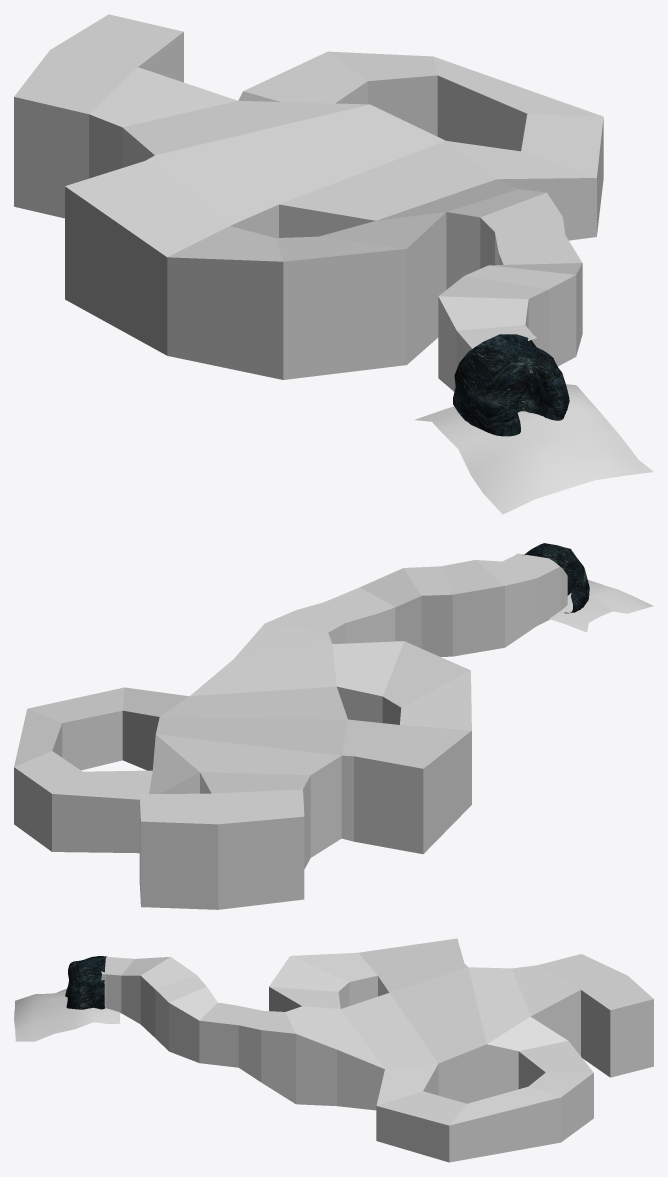
File: lamina_cave_2.glb
3 renders of one model, top to bottom at view 1: azimuth 30°, elevation 25°; view 2: azimuth 150°, elevation 25°; view 3: azimuth 270°, elevation 25°, orthographic. The views are drawn at different scales.
Visible parts, largest first — view 1: LightBlock-col, Grass, LaminaCave2; view 2: LightBlock-col, Grass, LaminaCave2; view 3: LightBlock-col, Grass, LaminaCave2.
Part boxes in pixels (x1=…): LightBlock-col: x1=14, y1=14, x2=603, y2=391; Grass: x1=414, y1=384, x2=653, y2=514; LaminaCave2: x1=453, y1=334, x2=569, y2=436; LightBlock-col: x1=14, y1=553, x2=567, y2=909; Grass: x1=549, y1=580, x2=653, y2=632; LaminaCave2: x1=522, y1=543, x2=589, y2=613; LightBlock-col: x1=95, y1=938, x2=653, y2=1162; Grass: x1=14, y1=988, x2=120, y2=1041; LaminaCave2: x1=65, y1=956, x2=107, y2=1009.
Bounding box in the file's own units: 39.63 × 11.05 × 69.4.
Materials: 1 (1 with a texture image).
